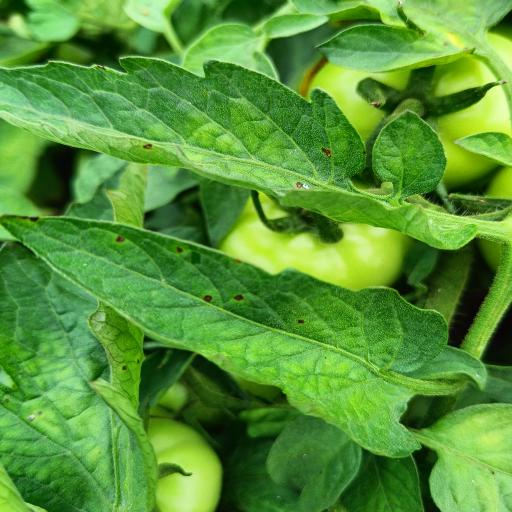Early Blight: (0, 212, 491, 463), (0, 54, 476, 250)
